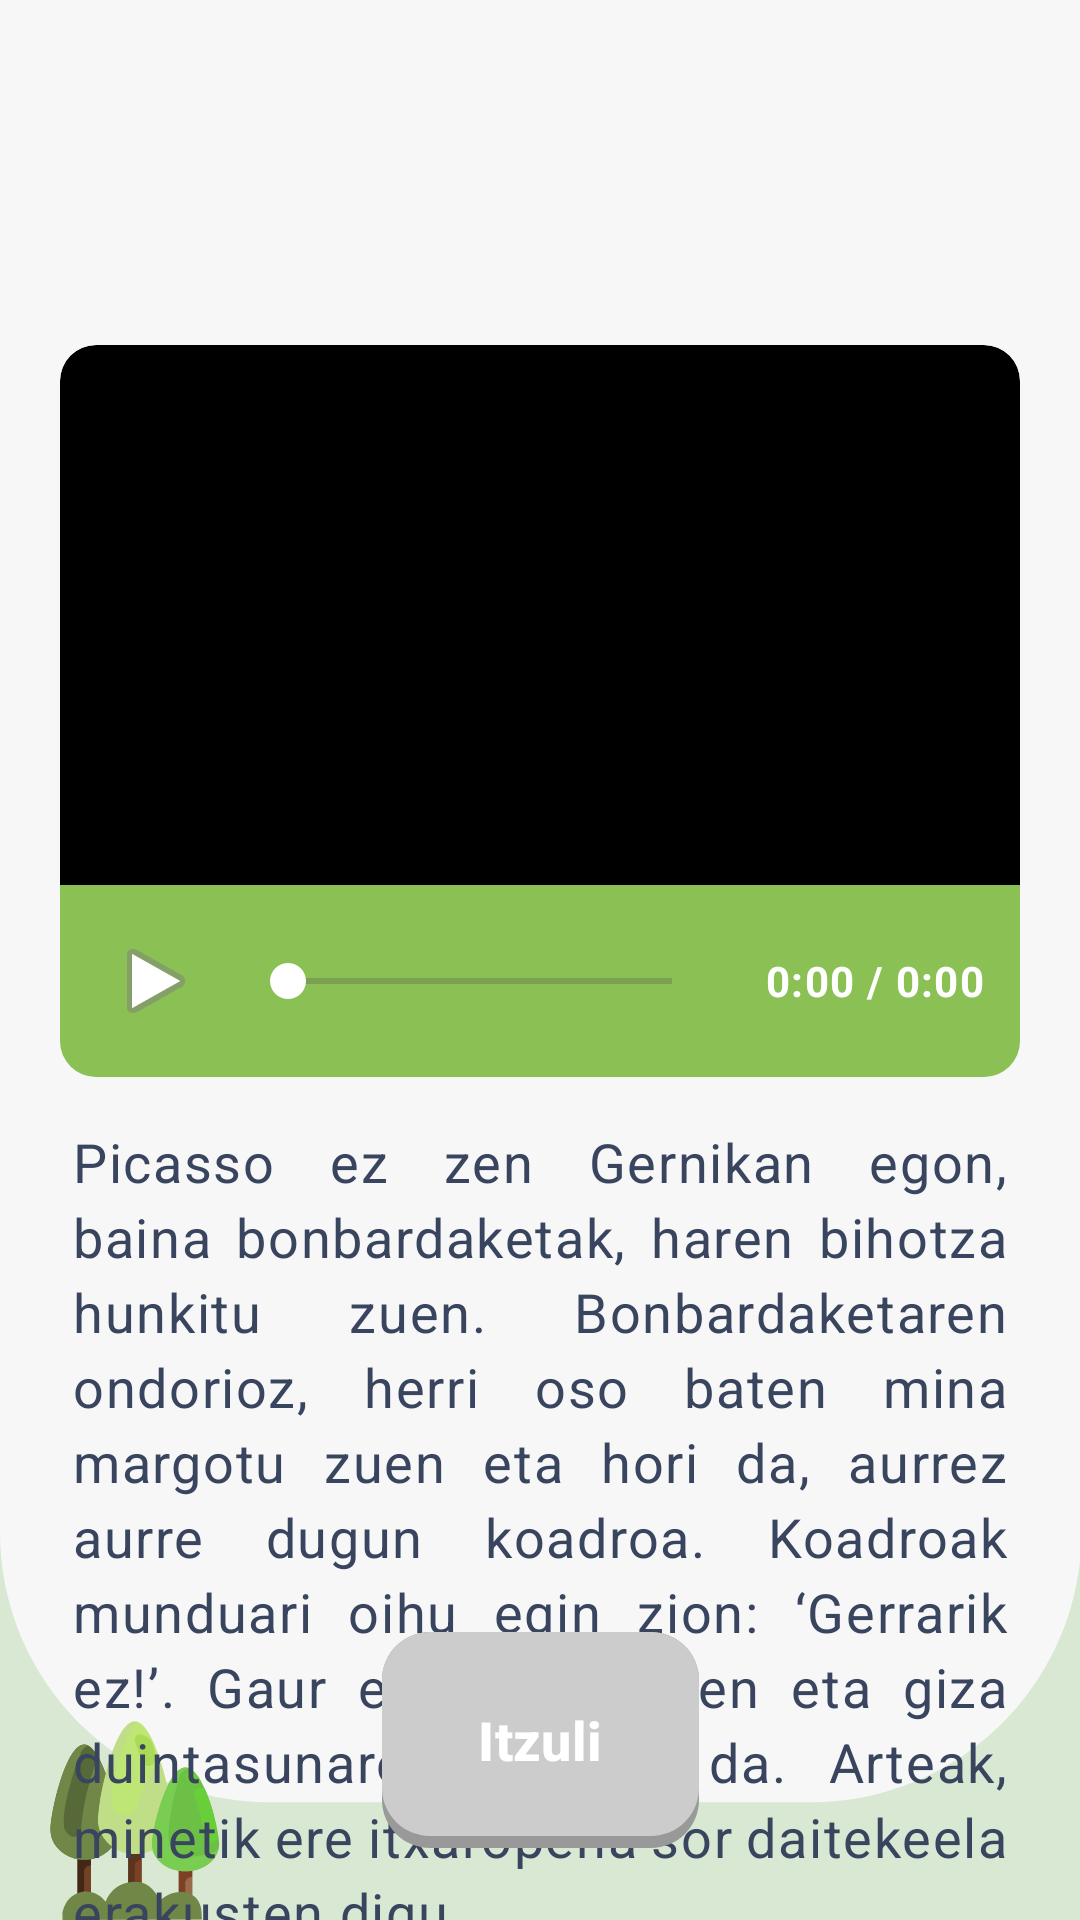

Point at icon controls on the screen. Image size 1080px×1920px, points as [x,y].
Erreproduzitu/Gelditu: [156,981]
